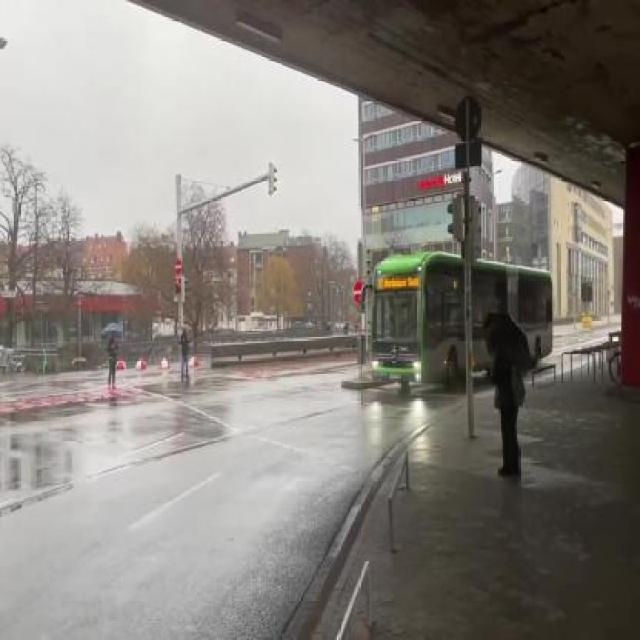Bus: (368, 254, 554, 388)
